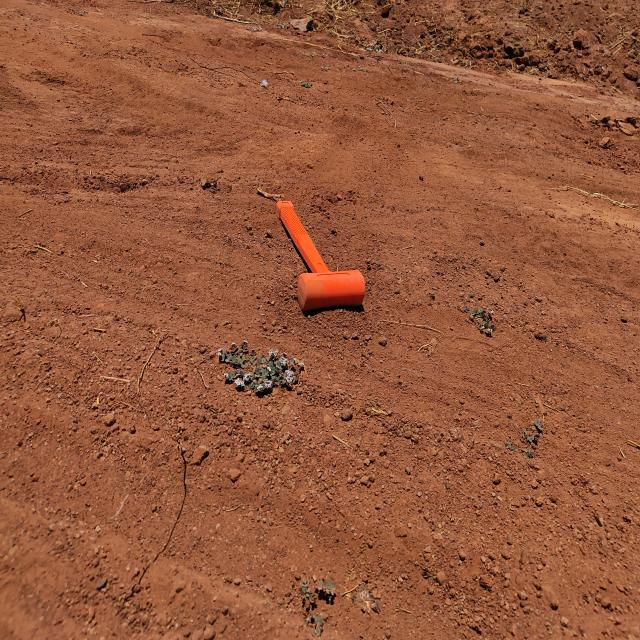Orange_hammer: (272, 188, 373, 320)
